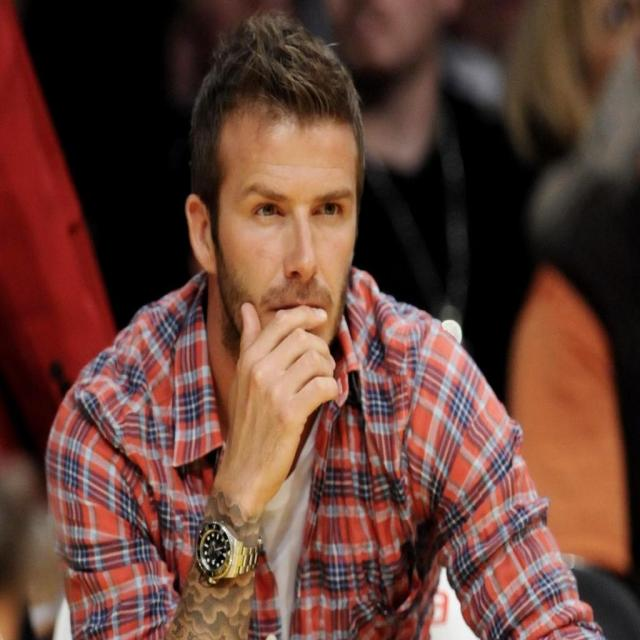Face: (214, 96, 366, 370)
